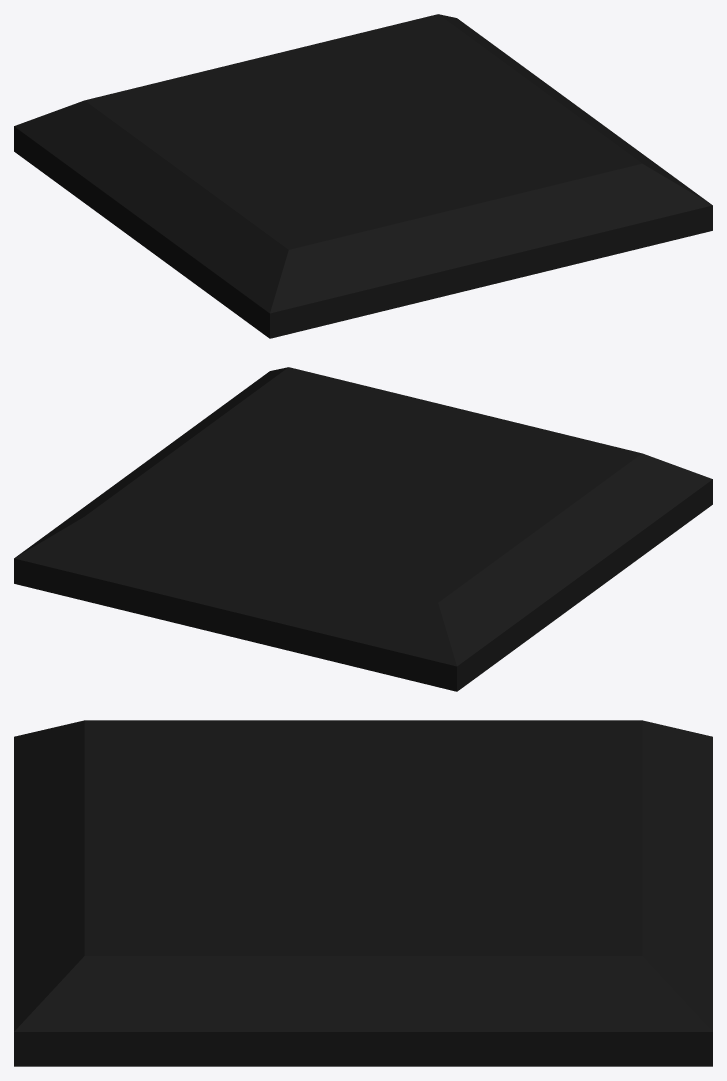
File: Itr_Table5_Top_03.FBX
3 renders of one model, top to bottom at view 1: azimuth 30°, elevation 25°; view 2: azimuth 150°, elevation 25°; view 3: azimuth 270°, elevation 25°, orthographic. The views are drawn at different scales.
Visible parts, largest first — view 1: Itr_Table5_Top_03; view 2: Itr_Table5_Top_03; view 3: Itr_Table5_Top_03.
Part boxes in pixels (x1=…): Itr_Table5_Top_03: x1=14, y1=14, x2=712, y2=338; Itr_Table5_Top_03: x1=14, y1=367, x2=712, y2=691; Itr_Table5_Top_03: x1=14, y1=720, x2=712, y2=1066.
Size of the model in its own units: 40.13 by 5.12 by 40.15.
